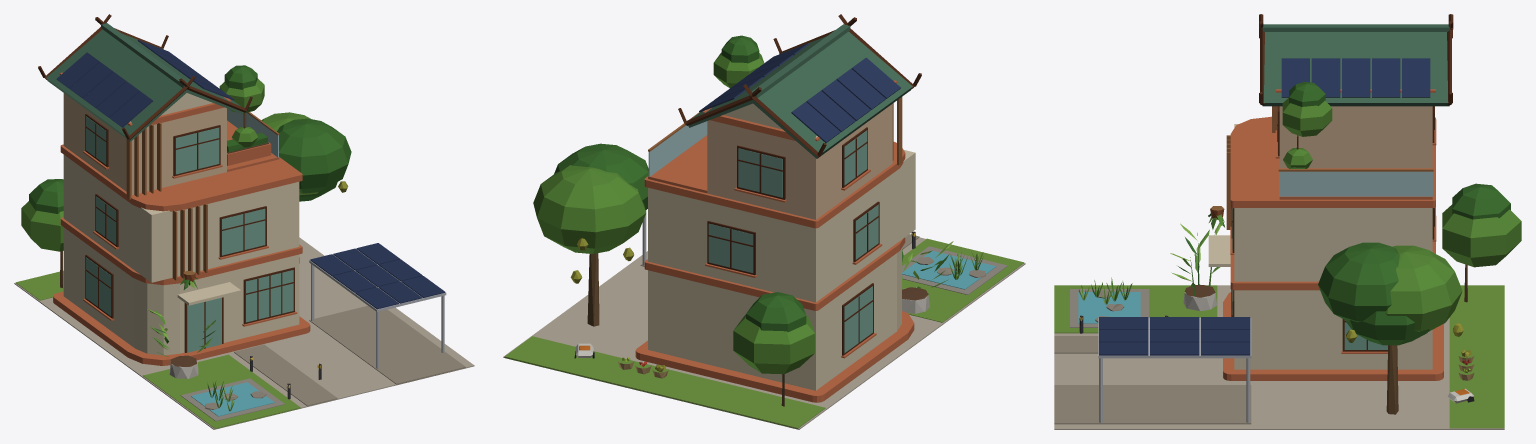
File: house12_2.glb
3 views of the same model, side by side, from view 1: azimuth 30°, elevation 25°; view 2: azimuth 150°, elevation 25°; view 3: azimuth 270°, elevation 25° (orthographic). The views are drawn at different scales.
Parts seen in each view (by area): view 1: body; view 2: body; view 3: body.
Boxes of the visible parts, x1=… form: body: x1=14, y1=14, x2=474, y2=429; body: x1=503, y1=14, x2=1025, y2=429; body: x1=1054, y1=14, x2=1521, y2=429.
Size of the model in its own units: 12.54 by 11.91 by 16.5.
